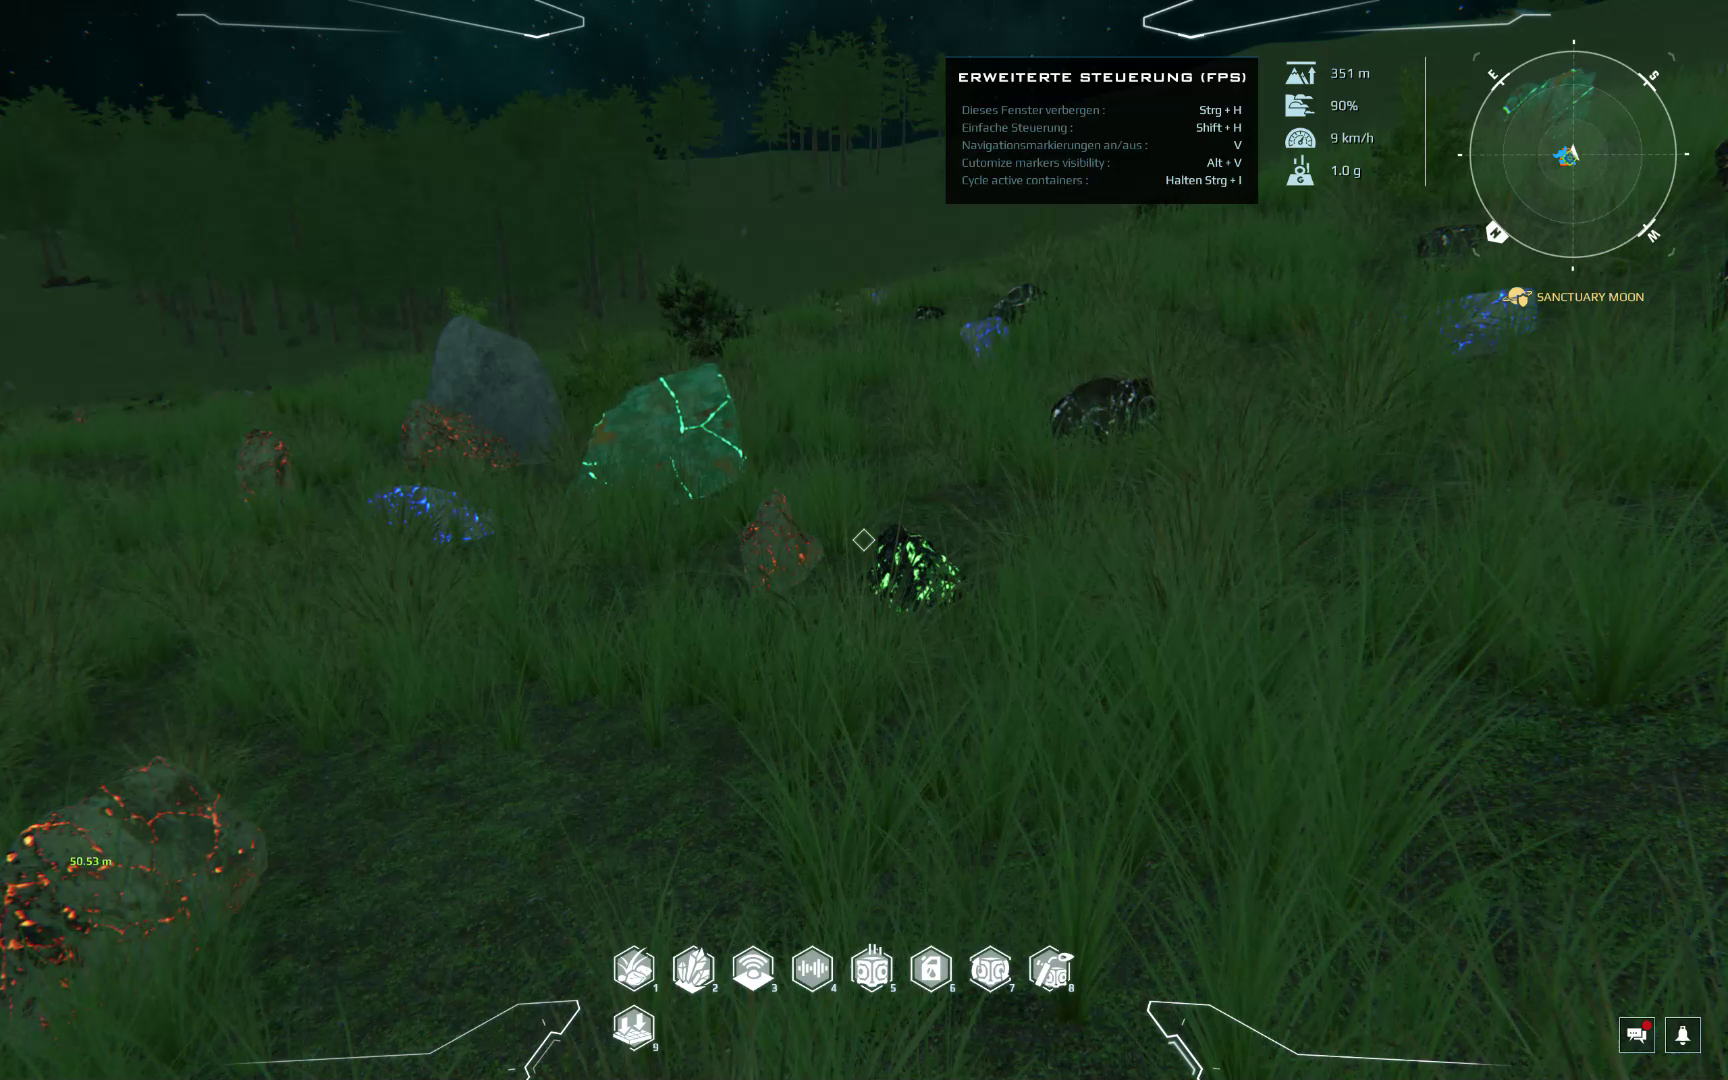Ore: (1, 753, 274, 1049), (567, 362, 750, 513), (736, 486, 827, 603), (394, 396, 519, 477), (863, 524, 963, 613), (1047, 372, 1164, 448), (365, 484, 500, 547), (1419, 286, 1546, 353), (230, 426, 310, 511), (1410, 219, 1490, 263), (958, 319, 1018, 362), (992, 281, 1047, 319), (913, 304, 945, 321)
